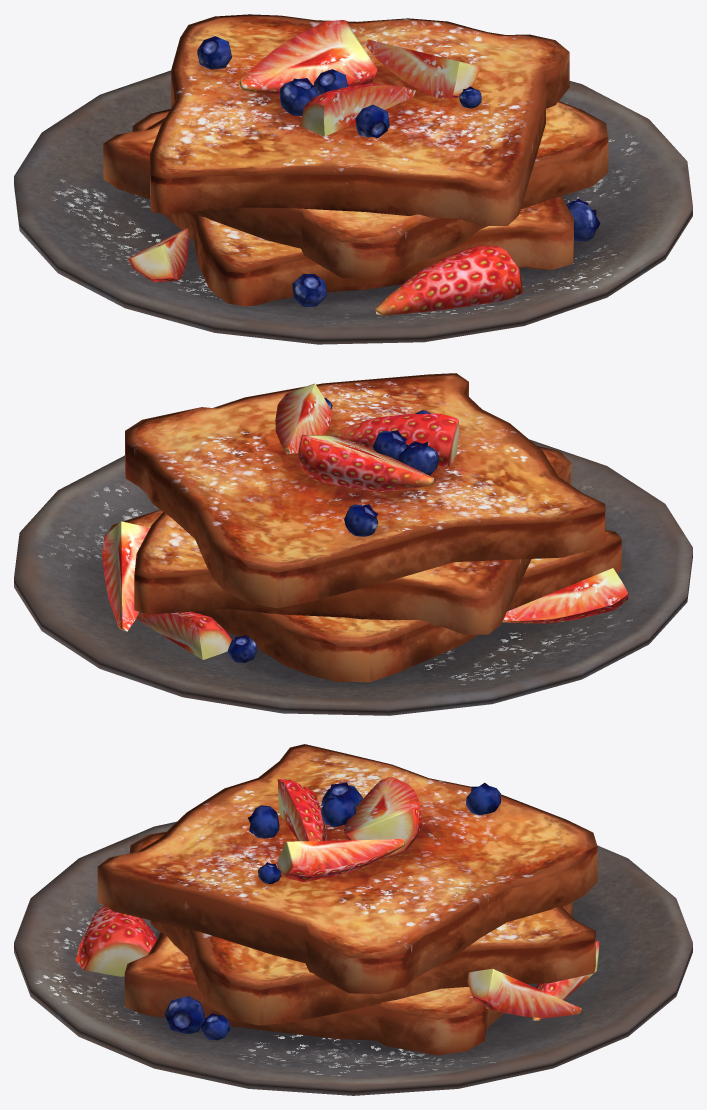
Rendered from french_toast.glb.
The picture shows the model from 3 angles, top to bottom: view 1: azimuth 30°, elevation 25°; view 2: azimuth 150°, elevation 25°; view 3: azimuth 270°, elevation 25°; orthographic projection.
Visible parts, largest first — view 1: Toast3, Plate1, Toast1, Toast, StrawberryHalf, StrawberryHalf1, StrawberryQuarter1, StrawberryQuarter, StrawberryQuarter2, Blueberry, Blueberry7, Blueberry2 (+3 smaller); view 2: Toast3, Plate1, Toast1, Toast, StrawberryHalf1, StrawberryQuarter2, StrawberryQuarter, StrawberryQuarter4, StrawberryQuarter3, StrawberryQuarter1, Blueberry, Blueberry2 (+2 smaller); view 3: Toast3, Plate1, Toast1, Toast, StrawberryHalf1, StrawberryHalf, StrawberryQuarter1, StrawberryQuarter4, StrawberryQuarter, Blueberry8, Blueberry2, Blueberry3 (+4 smaller).
Part boxes in pixels (bbox=[...]): Toast3: bbox=[150, 14, 569, 226]; Plate1: bbox=[14, 70, 692, 344]; Toast1: bbox=[103, 101, 608, 279]; Toast: bbox=[132, 109, 573, 306]; StrawberryHalf: bbox=[375, 245, 523, 315]; StrawberryHalf1: bbox=[239, 20, 377, 95]; StrawberryQuarter1: bbox=[364, 39, 480, 98]; StrawberryQuarter: bbox=[300, 83, 415, 136]; StrawberryQuarter2: bbox=[128, 228, 189, 281]; Blueberry: bbox=[280, 78, 318, 115]; Blueberry7: bbox=[292, 274, 326, 306]; Blueberry2: bbox=[197, 36, 231, 69]; Toast3: bbox=[125, 373, 605, 608]; Plate1: bbox=[14, 439, 692, 715]; Toast1: bbox=[134, 446, 571, 634]; Toast: bbox=[108, 510, 621, 682]; StrawberryHalf1: bbox=[297, 435, 434, 491]; StrawberryQuarter2: bbox=[502, 568, 628, 623]; StrawberryQuarter: bbox=[330, 413, 458, 466]; StrawberryQuarter4: bbox=[102, 521, 149, 631]; StrawberryQuarter3: bbox=[137, 611, 231, 659]; StrawberryQuarter1: bbox=[275, 383, 332, 454]; Blueberry: bbox=[398, 441, 438, 475]; Blueberry2: bbox=[344, 504, 378, 536]; Toast3: bbox=[97, 744, 597, 993]; Plate1: bbox=[14, 821, 692, 1095]; Toast1: bbox=[129, 831, 595, 1025]; Toast: bbox=[124, 902, 572, 1055]; StrawberryHalf1: bbox=[344, 776, 423, 857]; StrawberryHalf: bbox=[75, 906, 156, 976]; StrawberryQuarter1: bbox=[276, 839, 405, 882]; StrawberryQuarter4: bbox=[467, 968, 581, 1018]; StrawberryQuarter: bbox=[277, 779, 326, 841]; Blueberry8: bbox=[164, 996, 205, 1033]; Blueberry2: bbox=[466, 782, 500, 815]; Blueberry3: bbox=[248, 805, 279, 838].
Bounding box in the file's own units: 0.2117 × 0.0617 × 0.2117.
Materials: 2 (2 with a texture image).
